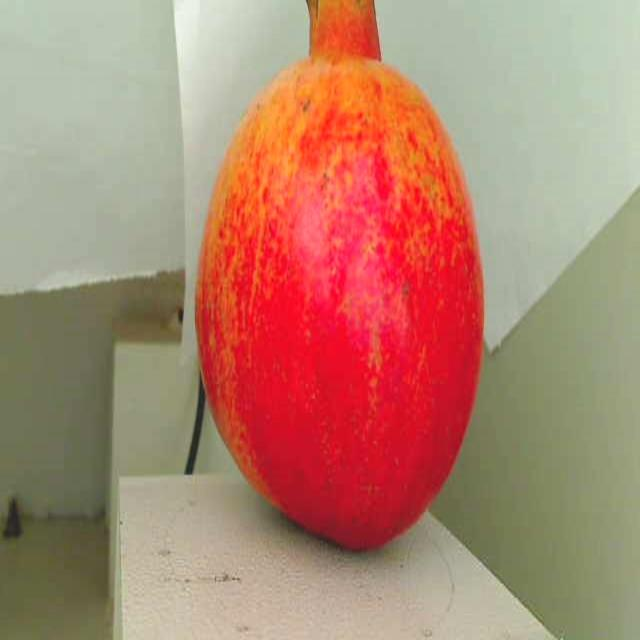pomegranate: (185, 0, 490, 549)
